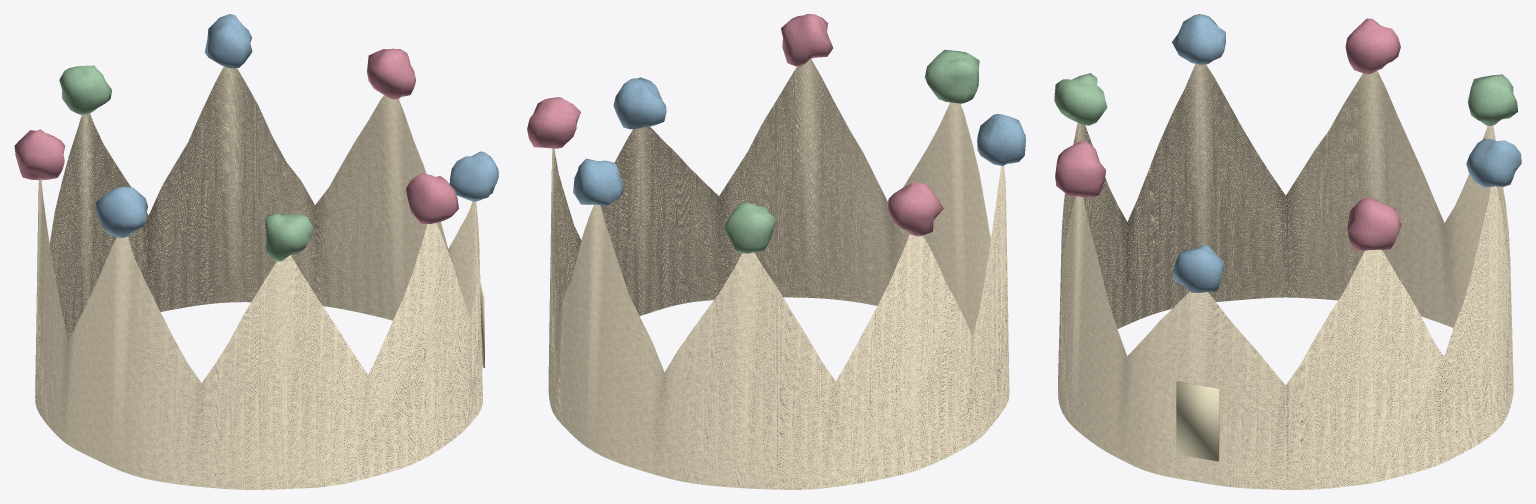
File: paper_crown.glb
3 renders of one model, left to right at view 1: azimuth 30°, elevation 25°; view 2: azimuth 150°, elevation 25°; view 3: azimuth 270°, elevation 25°, orthographic. The views are drawn at different scales.
Parts seen in each view (by area): view 1: paper_crown; view 2: paper_crown; view 3: paper_crown.
Boxes of the visible parts, x1,y1,x2,y2 form: paper_crown: (14, 14, 498, 489); paper_crown: (527, 14, 1025, 489); paper_crown: (1054, 14, 1521, 489).
Size of the model in its own units: 0.2048 by 0.1413 by 0.2054.
Materials: 5 (4 with a texture image).
